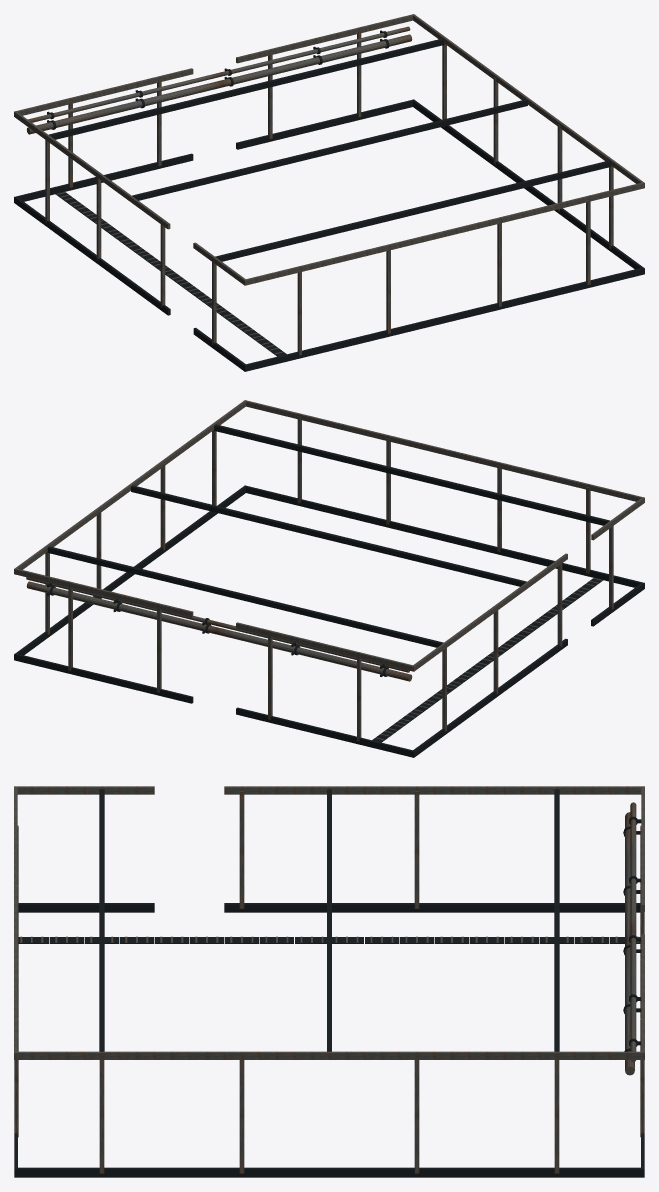
Rendered from ServiceStructure09.obj.
The picture shows the model from 3 angles, top to bottom: view 1: azimuth 30°, elevation 25°; view 2: azimuth 150°, elevation 25°; view 3: azimuth 270°, elevation 25°; orthographic projection. The views are drawn at different scales.
Visible parts, largest first — view 1: ServiceStructure09; view 2: ServiceStructure09; view 3: ServiceStructure09.
Part boxes in pixels (x1=…): ServiceStructure09: x1=14, y1=14, x2=644, y2=371; ServiceStructure09: x1=14, y1=400, x2=644, y2=757; ServiceStructure09: x1=14, y1=786, x2=644, y2=1177.
Size of the model in its own units: 18.02 by 3.93 by 18.02.
Materials: 3 (2 with a texture image).
